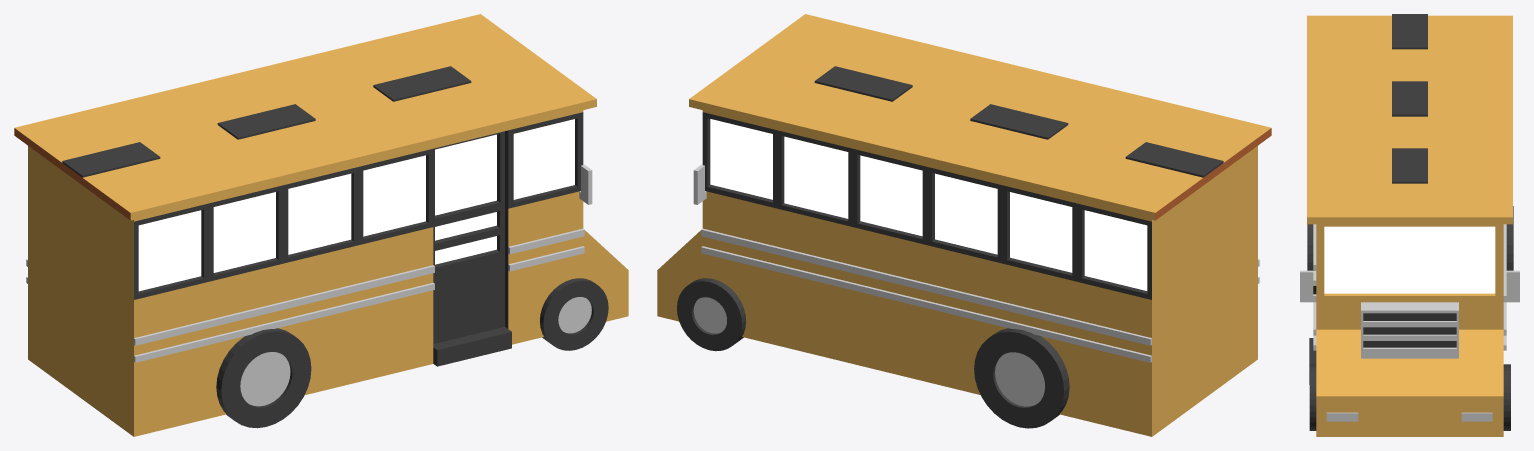
The model's file is Car 1.3.fbx.
3 renders of one model, left to right at view 1: azimuth 30°, elevation 25°; view 2: azimuth 150°, elevation 25°; view 3: azimuth 270°, elevation 25°, orthographic. The views are drawn at different scales.
Visible parts, largest first — view 1: Car_2.003; view 2: Car_2.003; view 3: Car_2.003.
Part boxes in pixels (x1,y1,x2,y2): Car_2.003: [14, 14, 628, 436]; Car_2.003: [657, 14, 1271, 436]; Car_2.003: [1300, 14, 1519, 436].
Size of the model in its own units: 768 by 362 by 327.
